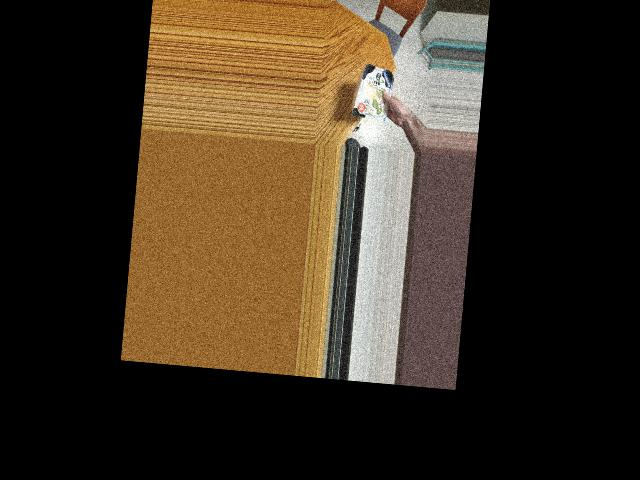cheese: (348, 63, 404, 125)
